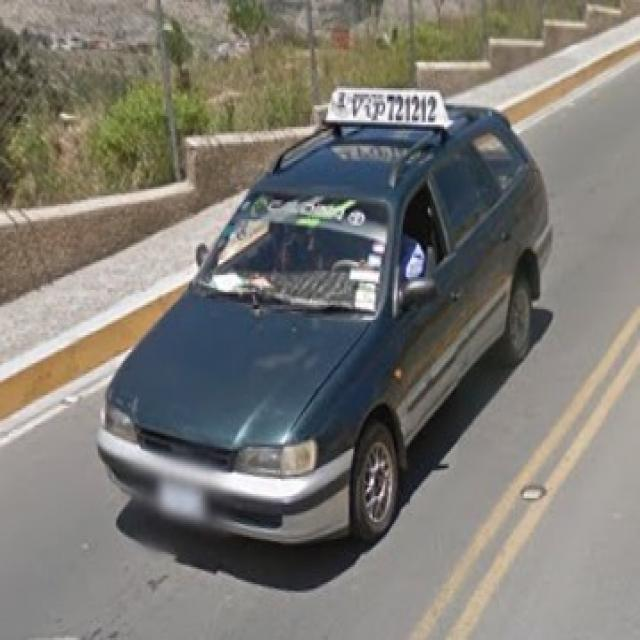cars: (98, 110, 544, 552)
